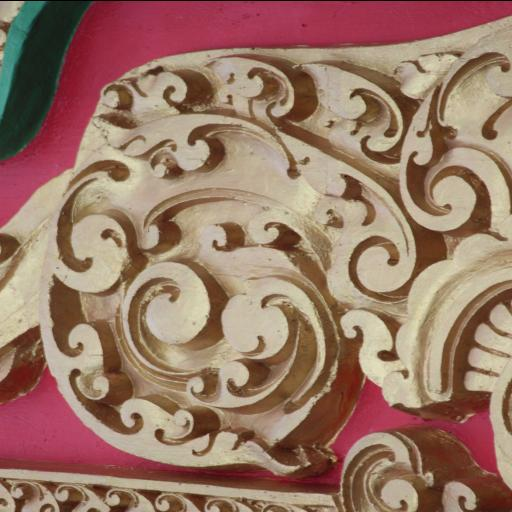la: (28, 51, 412, 468), (6, 476, 64, 512), (54, 482, 113, 512), (107, 485, 164, 512), (154, 489, 214, 512), (205, 493, 262, 512), (254, 500, 322, 512), (0, 477, 17, 512)
